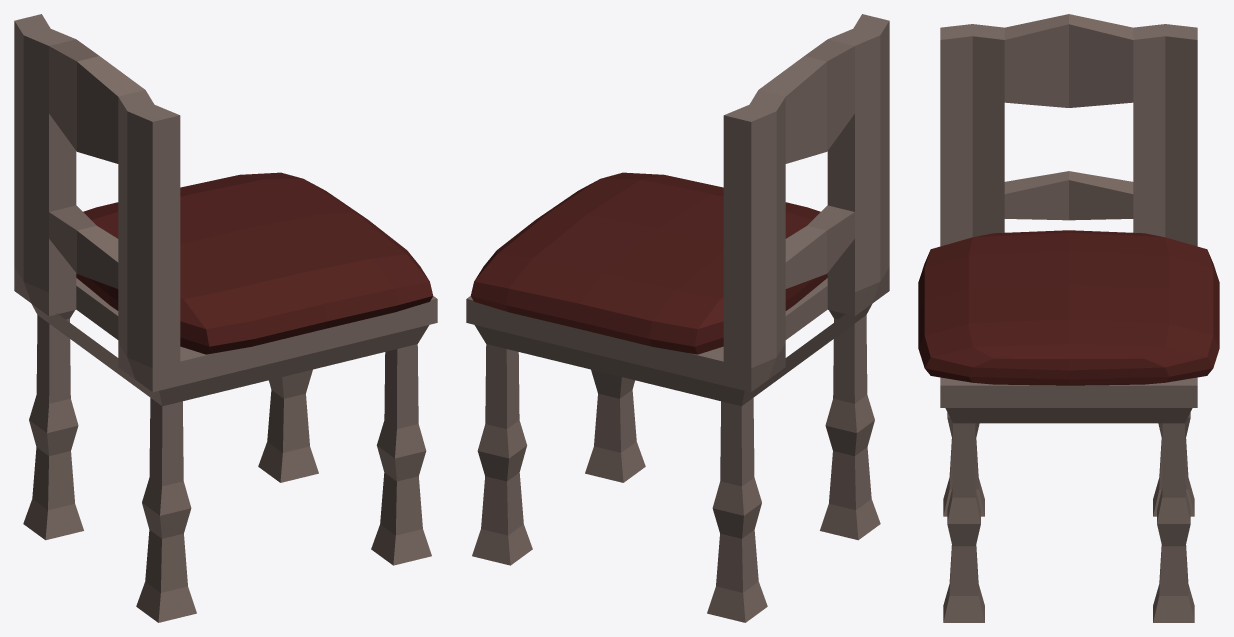
The model's file is Chair.fbx.
3 views of the same model, side by side, from view 1: azimuth 30°, elevation 25°; view 2: azimuth 150°, elevation 25°; view 3: azimuth 270°, elevation 25° (orthographic). The views are drawn at different scales.
Visible parts, largest first — view 1: Chair; view 2: Chair; view 3: Chair.
Part boxes in pixels (x1,y1,x2,y2): Chair: (14,14,437,622); Chair: (466,14,889,622); Chair: (918,14,1219,622).
Size of the model in its own units: 212 by 351 by 200.
